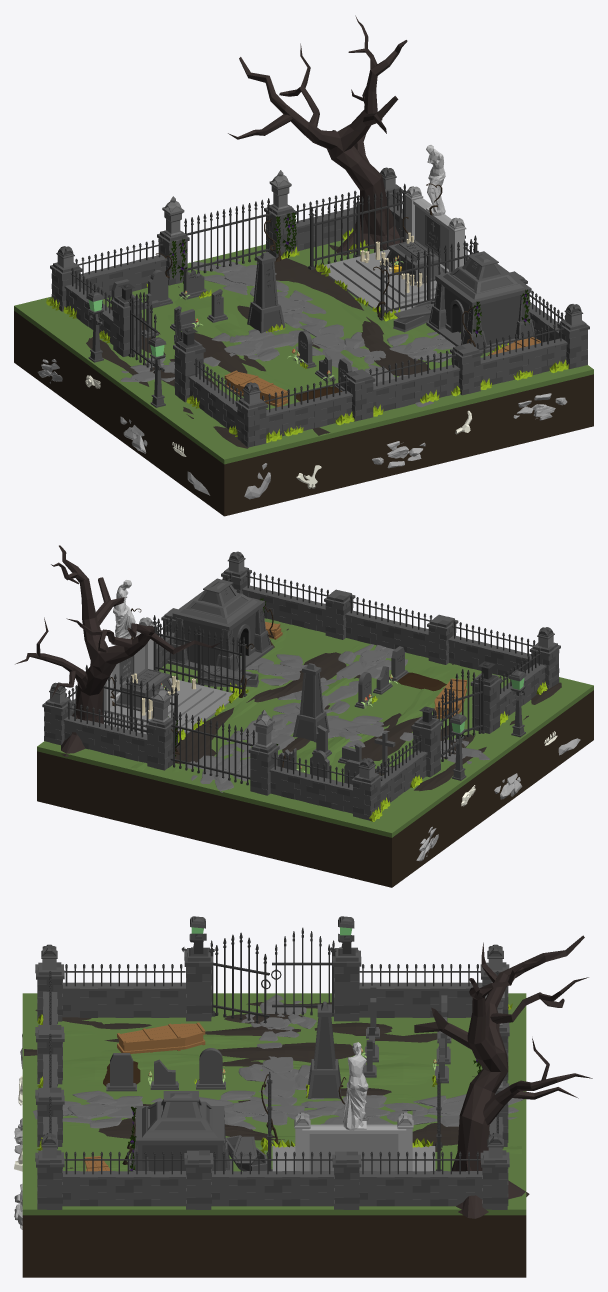
File: Graveyard.fbx
3 views of the same model, one above another, from view 1: azimuth 30°, elevation 25°; view 2: azimuth 150°, elevation 25°; view 3: azimuth 270°, elevation 25° (orthographic). The views are drawn at different scales.
Parts seen in each view (by area): view 1: Cube, Cube (1), Vegetation_Tree_Trunk_05, Terrain_Plane_Rock_Uneven_Large_01 (1), Prop_Crypt_01, Terrain_Plane_Rock_Uneven_Large_01, Prop_Stairs_Grand_Stone_01, Prop_Fence_Stone_Cobbled_01 (4), Prop_Fence_Stone_Cobbled_01 (5), Prop_Fence_Stone_Cobbled_01 (3), Prop_Obelisk_Stone_01, Rock_Chunks_Large_01 (8) (+32 smaller); view 2: Cube, Cube (1), Vegetation_Tree_Trunk_05, Terrain_Plane_Rock_Uneven_Large_01 (1), Terrain_Plane_Rock_Uneven_Large_01, Prop_Crypt_01, Prop_Fence_Stone_Cobbled_01 (2), Prop_Fence_Stone_Cobbled_01 (4), Prop_Stairs_Grand_Stone_01, Prop_Fence_Stone_Cobbled_01, Prop_Fence_Stone_Cobbled_01 (5), Prop_Fence_Stone_Cobbled_01 (3) (+41 smaller); view 3: Cube, Cube (1), Vegetation_Tree_Trunk_05, Terrain_Plane_Rock_Uneven_Large_01 (1), Terrain_Plane_Rock_Uneven_Large_01, Prop_Fence_Stone_Cobbled_01 (8), Prop_Fence_Stone_Cobbled_01 (9), Prop_Fence_Stone_Cobbled_01 (7), Prop_Fence_Stone_Cobbled_01 (6), Prop_Fence_Stone_Cobbled_01 (11), Prop_Fence_Stone_Straight_02, Prop_Crypt_01 (+30 smaller).
Part boxes in pixels (<box>): Cube: <box>14,311,593,516</box>; Cube (1): <box>14,240,593,464</box>; Vegetation_Tree_Trunk_05: <box>228,15,407,255</box>; Terrain_Plane_Rock_Uneven_Large_01 (1): <box>86,245,430,448</box>; Prop_Crypt_01: <box>426,263,536,353</box>; Terrain_Plane_Rock_Uneven_Large_01: <box>103,249,483,405</box>; Prop_Stairs_Grand_Stone_01: <box>323,249,436,313</box>; Prop_Fence_Stone_Cobbled_01 (4): <box>373,365,460,411</box>; Prop_Fence_Stone_Cobbled_01 (5): <box>480,338,567,384</box>; Prop_Fence_Stone_Cobbled_01 (3): <box>266,391,352,436</box>; Prop_Obelisk_Stone_01: <box>247,251,285,333</box>; Rock_Chunks_Large_01 (8): <box>203,328,305,366</box>; Cube: <box>37,690,593,887</box>; Cube (1): <box>37,618,593,837</box>; Vegetation_Tree_Trunk_05: <box>15,545,221,756</box>; Terrain_Plane_Rock_Uneven_Large_01 (1): <box>175,628,561,791</box>; Terrain_Plane_Rock_Uneven_Large_01: <box>131,630,510,774</box>; Prop_Crypt_01: <box>167,590,273,672</box>; Prop_Fence_Stone_Cobbled_01 (2): <box>269,766,352,813</box>; Prop_Fence_Stone_Cobbled_01 (4): <box>345,610,428,657</box>; Prop_Stairs_Grand_Stone_01: <box>104,678,232,734</box>; Prop_Fence_Stone_Cobbled_01: <box>63,715,147,762</box>; Prop_Fence_Stone_Cobbled_01 (5): <box>242,585,325,632</box>; Prop_Fence_Stone_Cobbled_01 (3): <box>448,635,531,676</box>; Cube: <box>22,1215,526,1277</box>; Cube (1): <box>22,993,526,1215</box>; Vegetation_Tree_Trunk_05: <box>414,935,592,1218</box>; Terrain_Plane_Rock_Uneven_Large_01 (1): <box>24,1002,474,1168</box>; Terrain_Plane_Rock_Uneven_Large_01: <box>63,1027,521,1169</box>; Prop_Fence_Stone_Cobbled_01 (8): <box>62,1171,186,1206</box>; Prop_Fence_Stone_Cobbled_01 (9): <box>62,982,186,1017</box>; Prop_Fence_Stone_Cobbled_01 (7): <box>211,1171,334,1206</box>; Prop_Fence_Stone_Cobbled_01 (6): <box>359,1171,482,1206</box>; Prop_Fence_Stone_Cobbled_01 (11): <box>359,982,482,1017</box>; Prop_Fence_Stone_Straight_02: <box>302,1124,406,1171</box>; Prop_Crypt_01: <box>129,1106,231,1171</box>.
Bounding box in the file's own units: 11.12 × 7.07 × 12.04.
